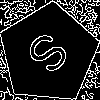S: (23, 28, 79, 84)
